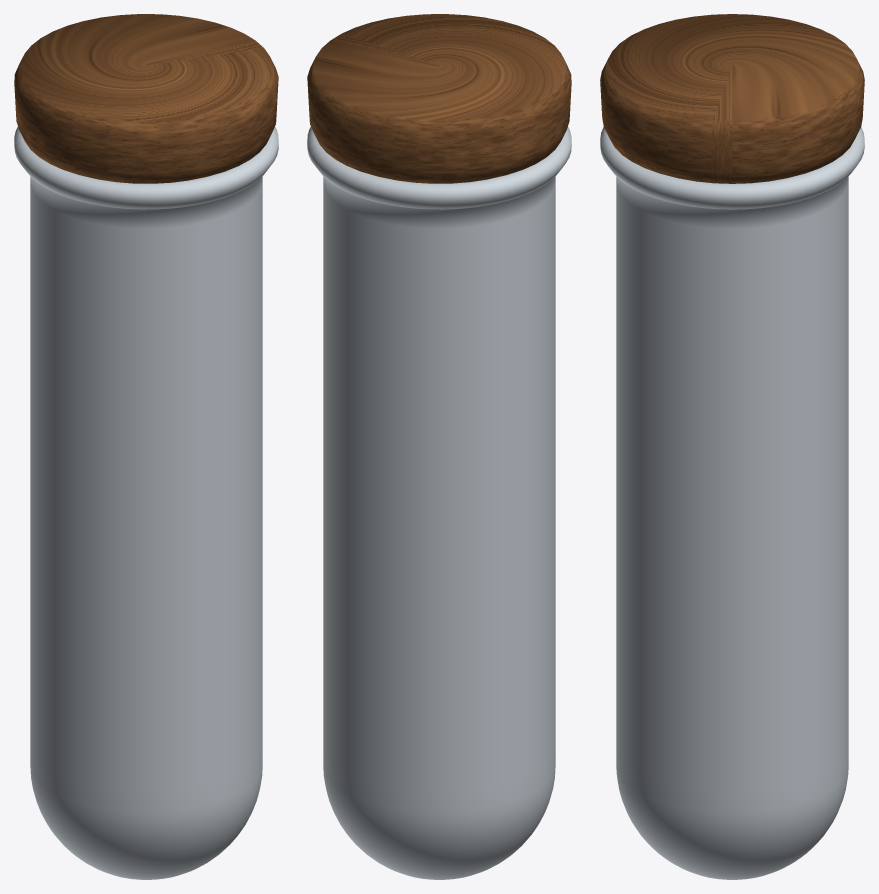
The model's file is bottle_tube.glb.
3 renders of one model, left to right at view 1: azimuth 30°, elevation 25°; view 2: azimuth 150°, elevation 25°; view 3: azimuth 270°, elevation 25°, orthographic.
Visible parts, largest first — view 1: Glass, Cork; view 2: Glass, Cork; view 3: Glass, Cork.
Boxes of the visible parts, <box> form: Glass: <box>14,127,278,879</box>; Cork: <box>14,14,278,183</box>; Glass: <box>307,127,571,879</box>; Cork: <box>307,14,571,183</box>; Glass: <box>600,127,864,879</box>; Cork: <box>600,14,864,183</box>.
Bounding box in the file's own units: 0.751 × 2.52 × 0.751.
Materials: 2 (1 with a texture image).
